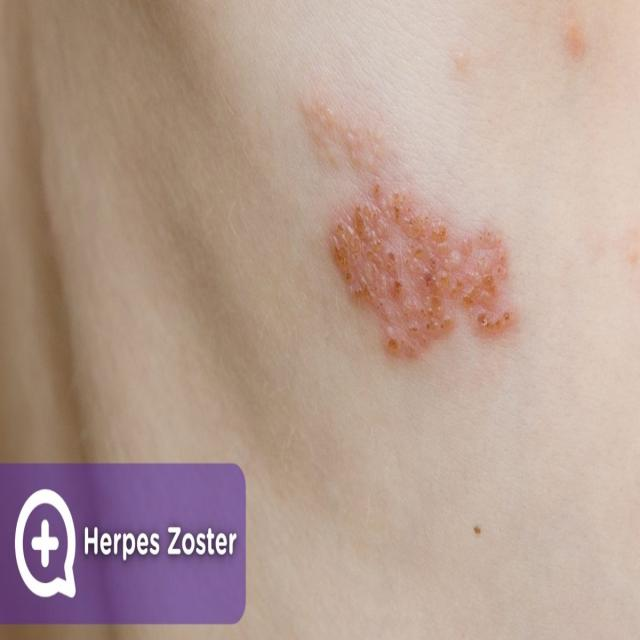herpes zoster: (327, 169, 542, 366)
